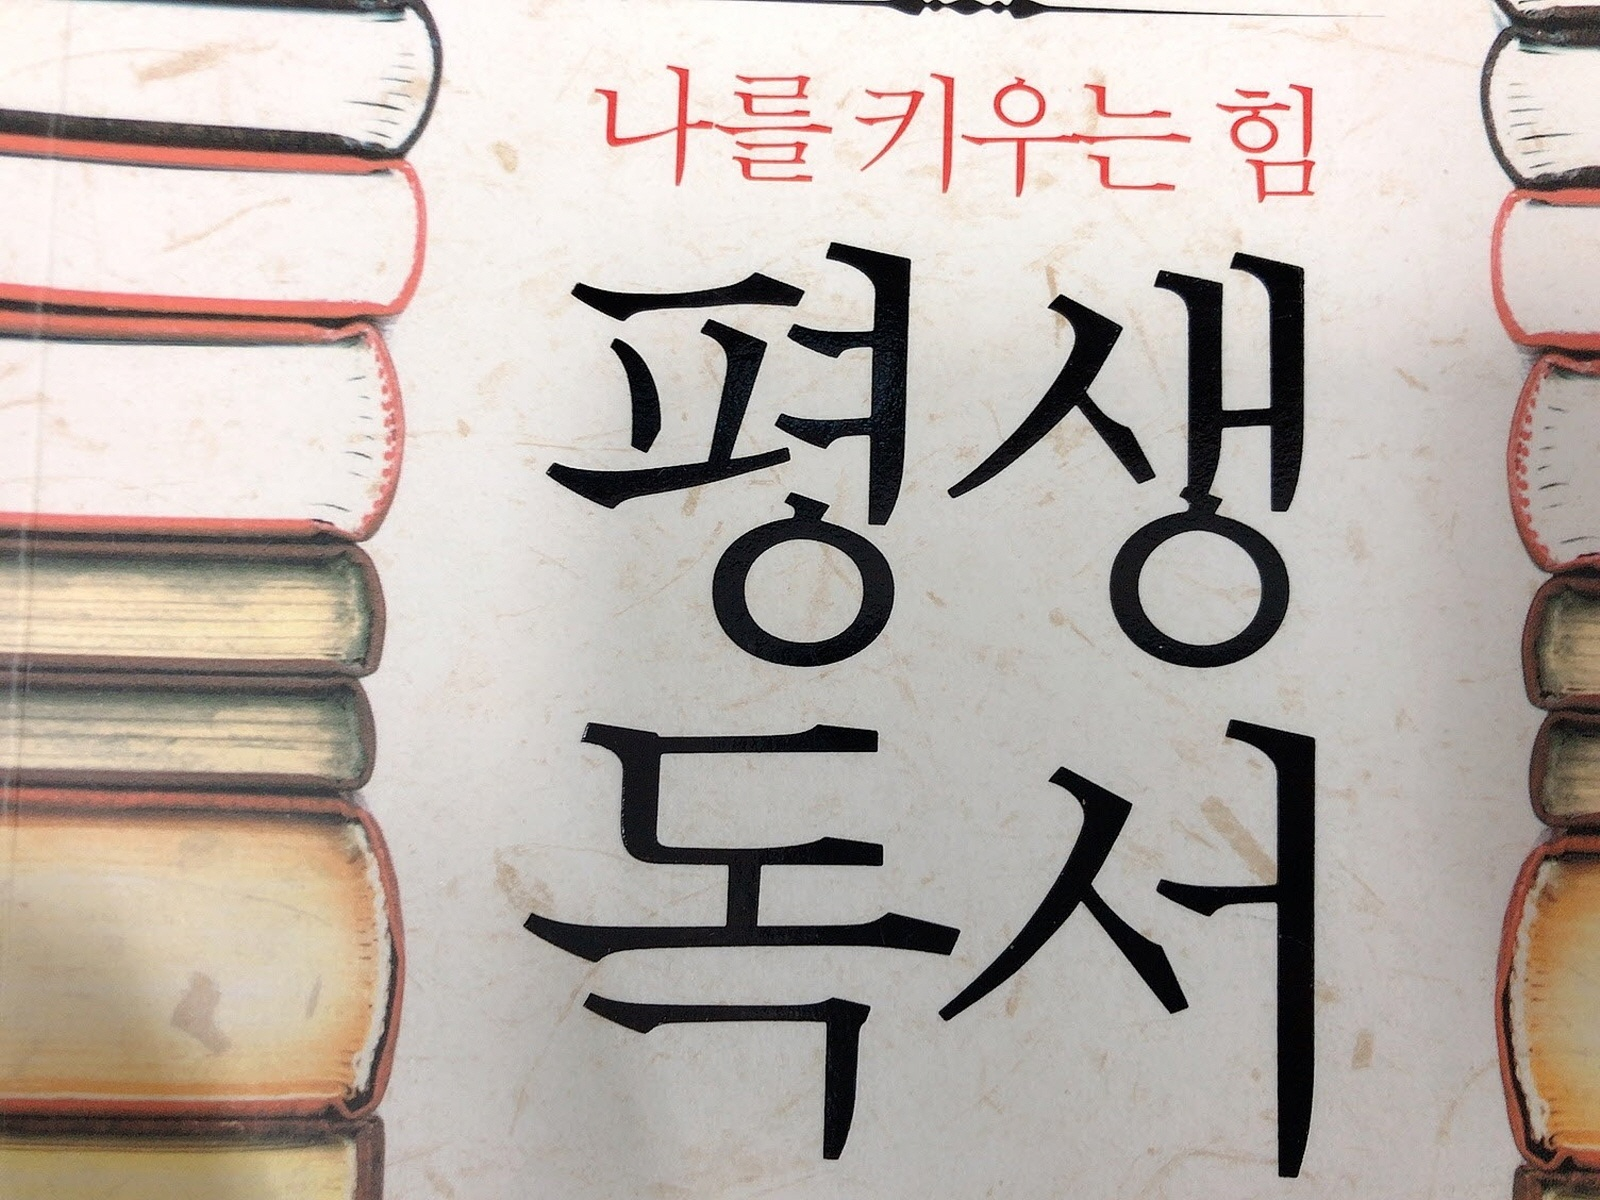text: (506, 696, 1403, 1186), (485, 245, 1412, 686), (553, 45, 1362, 231)
